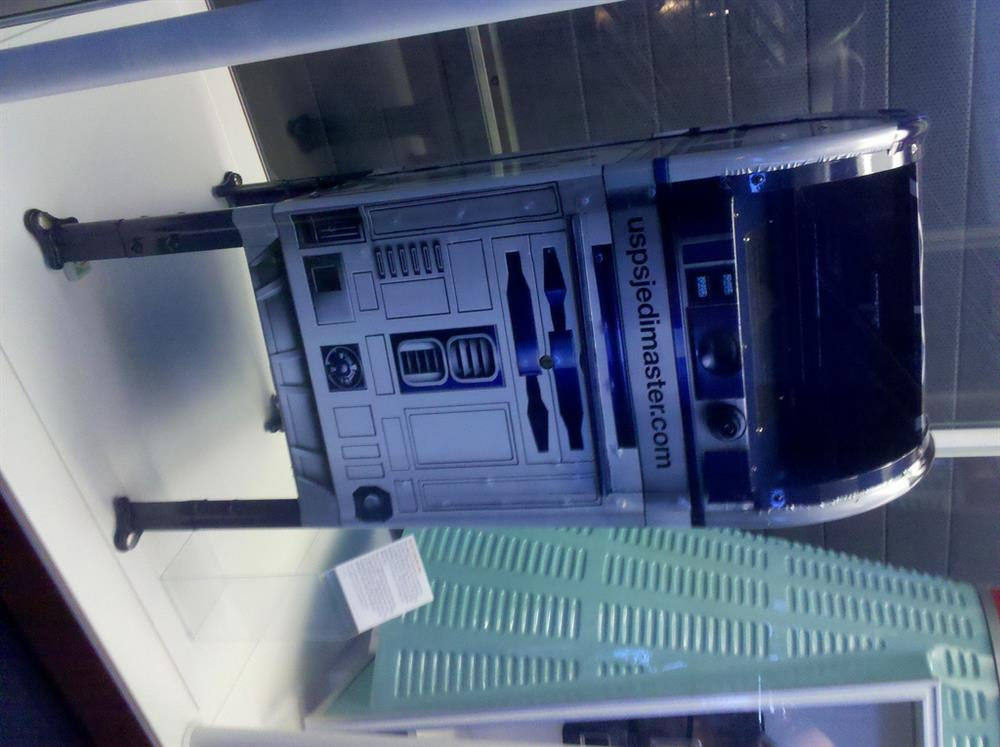R2D2_mailbox: (234, 117, 934, 534)
